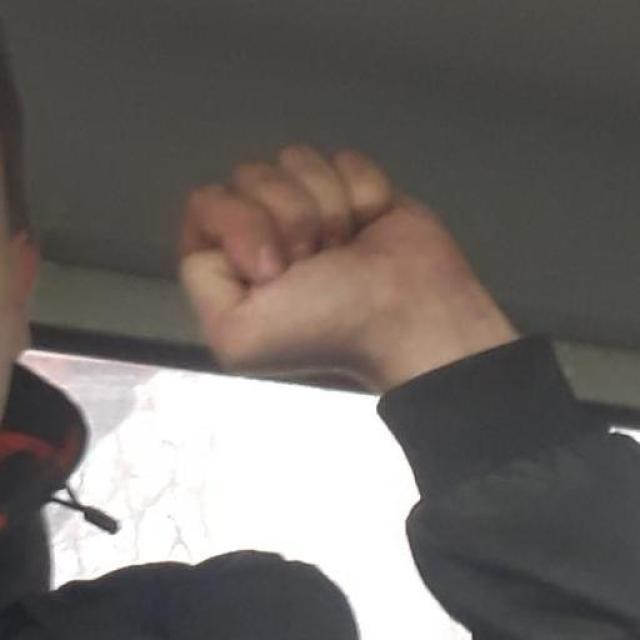hand: (178, 140, 522, 396)
